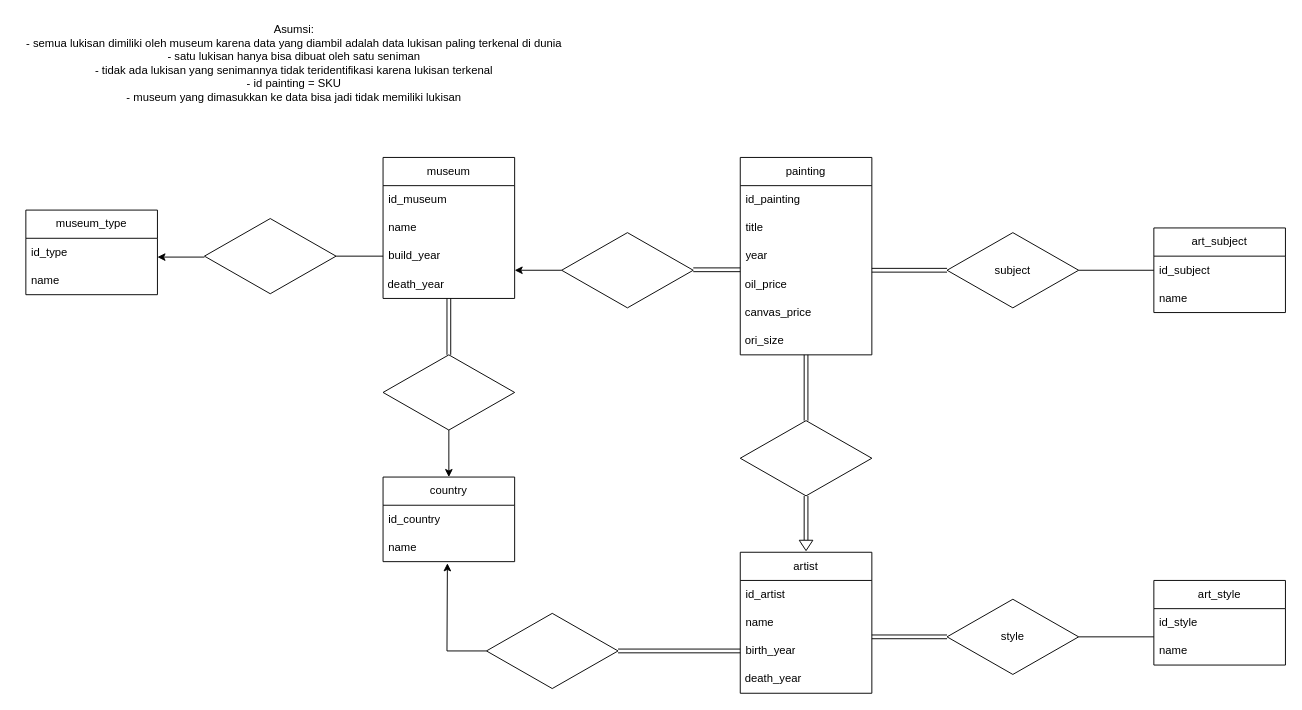
The diagram is 1302 pixels wide and 710 high, and some of its shapes have lost their labels. Here are the shapes that lost their labels. From the top down, the centre of each, then its label:
At point (270, 256): "type".
At point (627, 270): "own".
At point (448, 392): "location".
At point (805, 458): "create".
At point (552, 650): "nationality".
